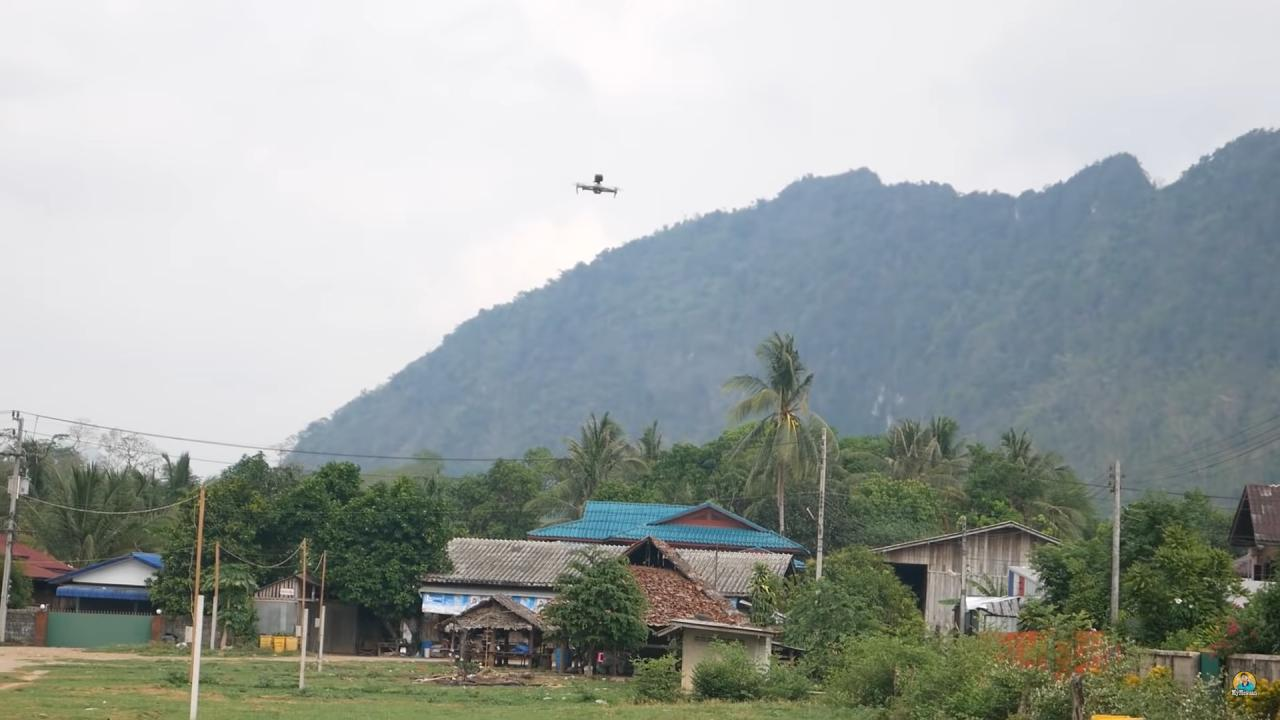Drone: (558, 162, 633, 210)
